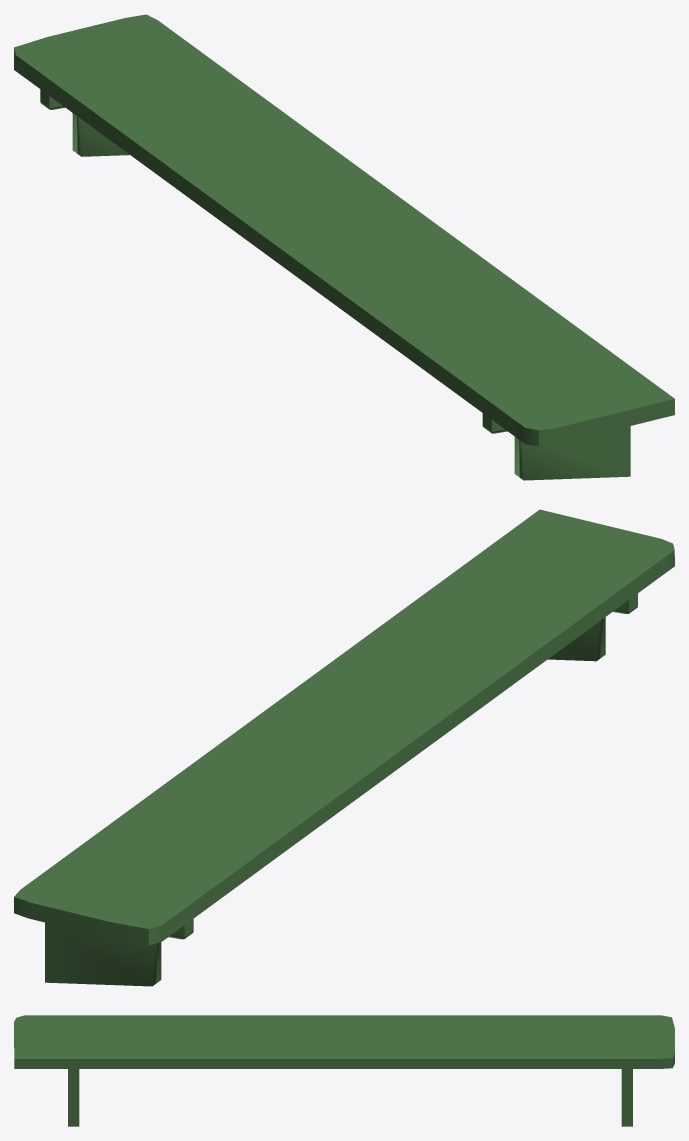
Rendered from Shelf_Grp_01_Lod0.fbx.
3 renders of one model, top to bottom at view 1: azimuth 30°, elevation 25°; view 2: azimuth 150°, elevation 25°; view 3: azimuth 270°, elevation 25°, orthographic. The views are drawn at different scales.
Parts seen in each view (by area): view 1: Shelf_Grp_01_Lod0; view 2: Shelf_Grp_01_Lod0; view 3: Shelf_Grp_01_Lod0.
Boxes of the visible parts, x1,y1,x2,y2 form: Shelf_Grp_01_Lod0: (14,14,674,480); Shelf_Grp_01_Lod0: (14,509,674,986); Shelf_Grp_01_Lod0: (14,1015,674,1126).
Bounding box in the file's own units: 34.21 × 25.06 × 220.
